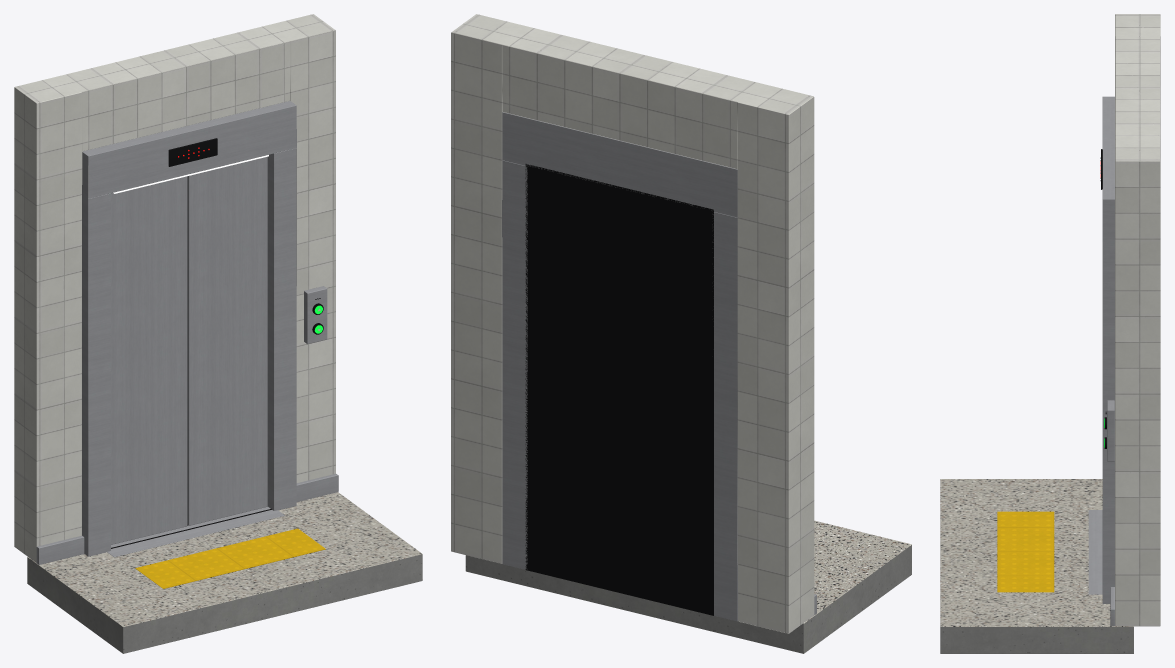
File: gteki_lift_portal_w1000.glb
The picture shows the model from 3 angles, left to right: view 1: azimuth 30°, elevation 25°; view 2: azimuth 150°, elevation 25°; view 3: azimuth 270°, elevation 25°; orthographic projection. The views are drawn at different scales.
Parts seen in each view (by area): view 1: VIS_surround, VIS_doors, VIS_portal_frame, VIS_approach_floor, VIS_tactile, VIS_skirting, VIS_call_panel, VIS_floor_indicator; view 2: VIS_surround, VIS_door_reveals, VIS_portal_frame, VIS_approach_floor; view 3: VIS_surround, VIS_approach_floor, VIS_portal_frame, VIS_tactile, VIS_call_panel.
Part boxes in pixels (x1,y1,x2,y2): VIS_surround: [14, 14, 335, 562]; VIS_doors: [111, 156, 267, 544]; VIS_portal_frame: [82, 101, 296, 557]; VIS_approach_floor: [27, 492, 422, 653]; VIS_tactile: [135, 528, 325, 588]; VIS_skirting: [36, 473, 338, 564]; VIS_call_panel: [304, 286, 327, 344]; VIS_floor_indicator: [168, 138, 217, 166]; VIS_surround: [451, 14, 814, 633]; VIS_door_reveals: [525, 164, 713, 615]; VIS_portal_frame: [502, 112, 737, 621]; VIS_approach_floor: [465, 520, 911, 653]; VIS_surround: [1115, 14, 1160, 626]; VIS_approach_floor: [940, 479, 1133, 653]; VIS_portal_frame: [1088, 96, 1114, 603]; VIS_tactile: [997, 511, 1054, 592]; VIS_call_panel: [1107, 400, 1114, 461].
Size of what is drawn, in the model's own units: 1.84 by 2.86 by 1.16.
Materials: 11 (5 with a texture image).
